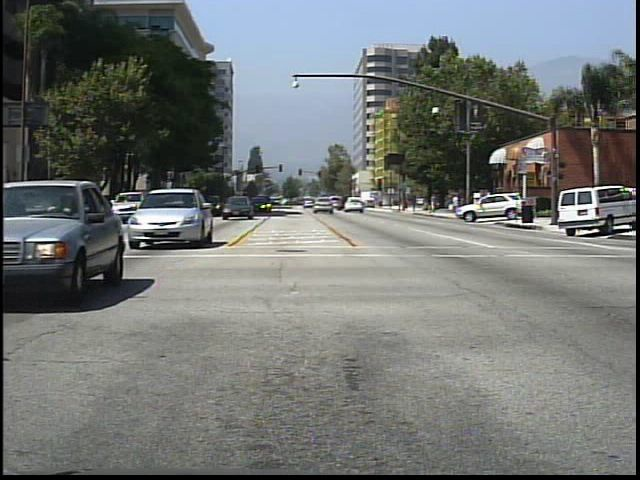person: (451, 189, 465, 219), (429, 191, 440, 214)
